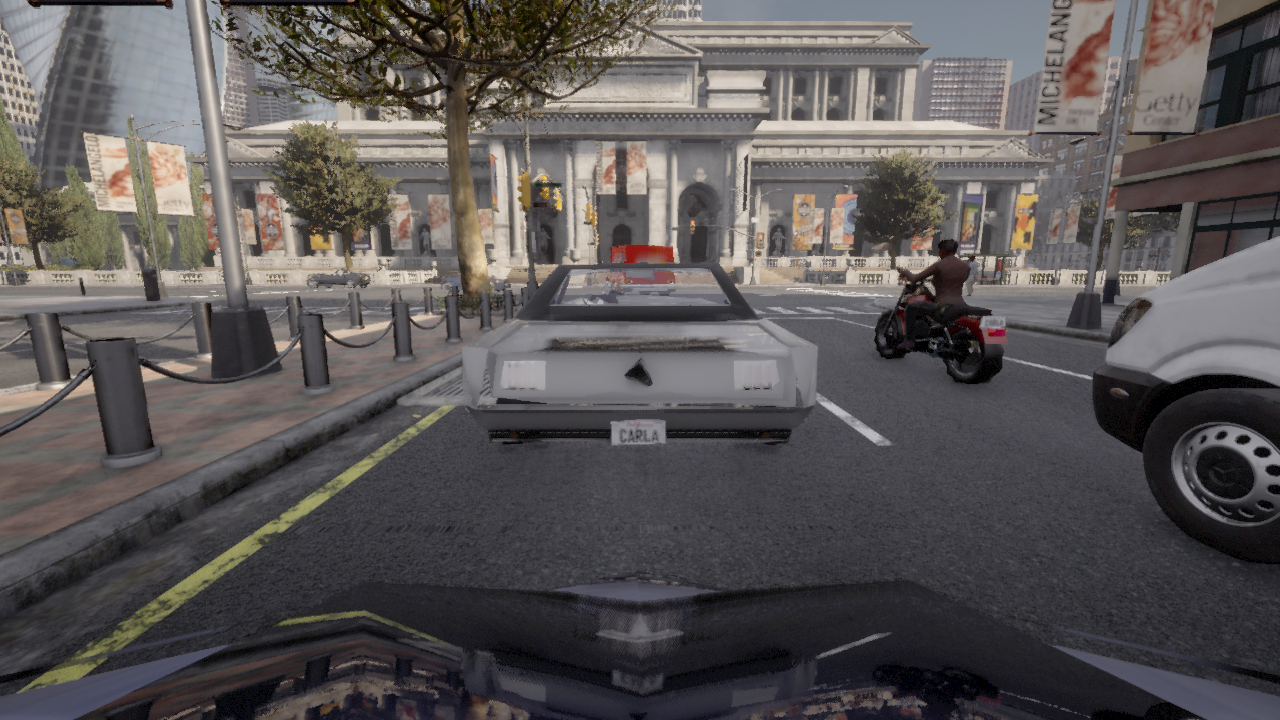cyclist: (0, 569, 1279, 719), (462, 262, 817, 445), (1092, 236, 1279, 563), (874, 267, 1007, 383), (600, 244, 674, 263), (440, 272, 509, 292), (306, 269, 371, 288)
pedestrian: (964, 255, 979, 296)
